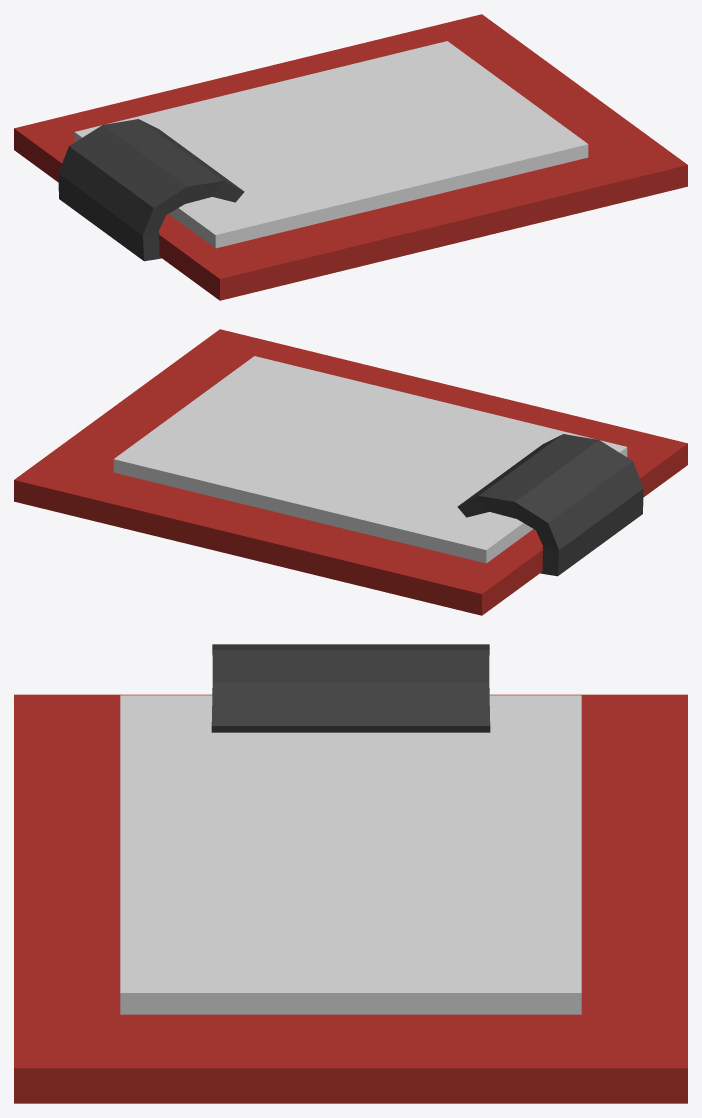
Rendered from SM_Notepad_03.glb.
3 renders of one model, top to bottom at view 1: azimuth 30°, elevation 25°; view 2: azimuth 150°, elevation 25°; view 3: azimuth 270°, elevation 25°, orthographic. The views are drawn at different scales.
Parts seen in each view (by area): view 1: SM_Notepad_03; view 2: SM_Notepad_03; view 3: SM_Notepad_03.
Part boxes in pixels (x1,y1,x2,y2): SM_Notepad_03: [14, 14, 687, 300]; SM_Notepad_03: [14, 329, 687, 615]; SM_Notepad_03: [14, 644, 687, 1103].
Bounding box in the file's own units: 0.3658 × 0.047 × 0.2694.
Materials: 1 (1 with a texture image).
